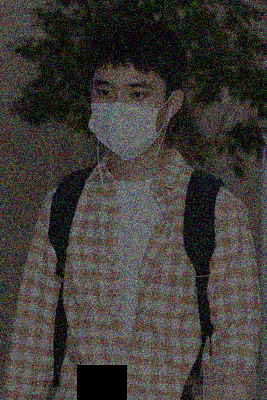with_mask: (92, 76, 168, 162)
